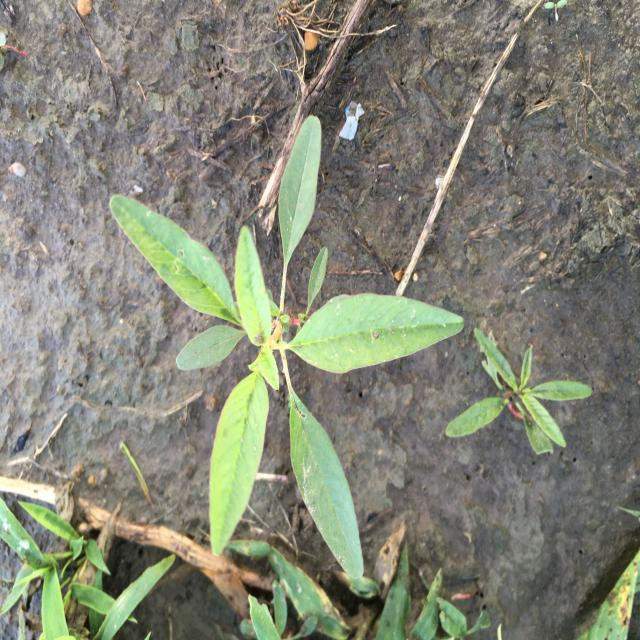Waterhemp: (107, 114, 467, 580), (444, 325, 594, 457)
